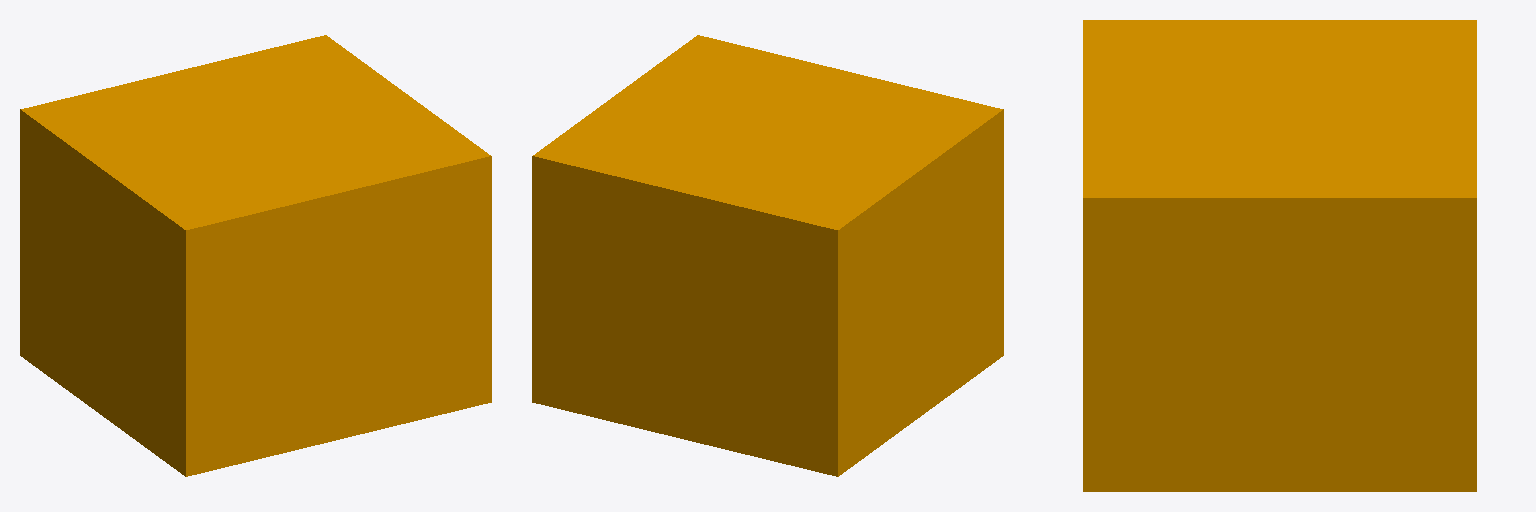
URDF robot description (object):
<?xml version="1.0"?>
<robot name="object">
  <link name="object">
    <visual>
      <origin xyz="0 0 0"/>
      <geometry>
        <mesh filename="meshes/custom/obj7.obj" scale=".07 .07 .07"/>
      </geometry>
    </visual>
    <collision>
      <origin xyz="0 0 0"/>
      <geometry>
        <mesh filename="meshes/custom/obj7.obj" scale=".07 .07 .07"/>
      </geometry>
    </collision>
    <inertial>
      <density value="500.0"/>
    </inertial>
  </link>
</robot>

--- Facts derived from the render (not from the file) ---
3 views of the same robot in one strip: view 1: azimuth 30°, elevation 25°; view 2: azimuth 150°, elevation 25°; view 3: azimuth 270°, elevation 25° (orthographic).
Robot: object — 1 links, 0 joints (none); root link object; default pose: all joints at 0.
Visible links, largest first — view 1: object; view 2: object; view 3: object.
Link boxes in pixels (x1,y1,x2,y2): object: [20, 35, 491, 476]; object: [532, 35, 1003, 476]; object: [1083, 20, 1476, 491].
Bounding box of the posed robot: 0.0672 × 0.063 × 0.0518 m (x, y, z).
1 mesh visuals loaded from 1 distinct referenced files (1 OBJ).
